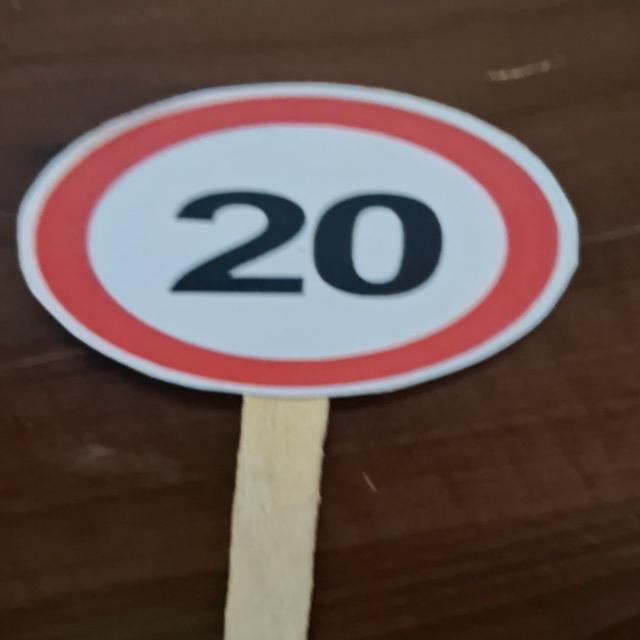Speed20: (0, 75, 587, 401)
